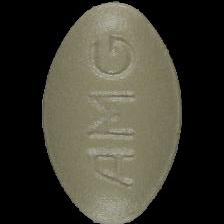55513-073: (0, 0, 224, 224)
